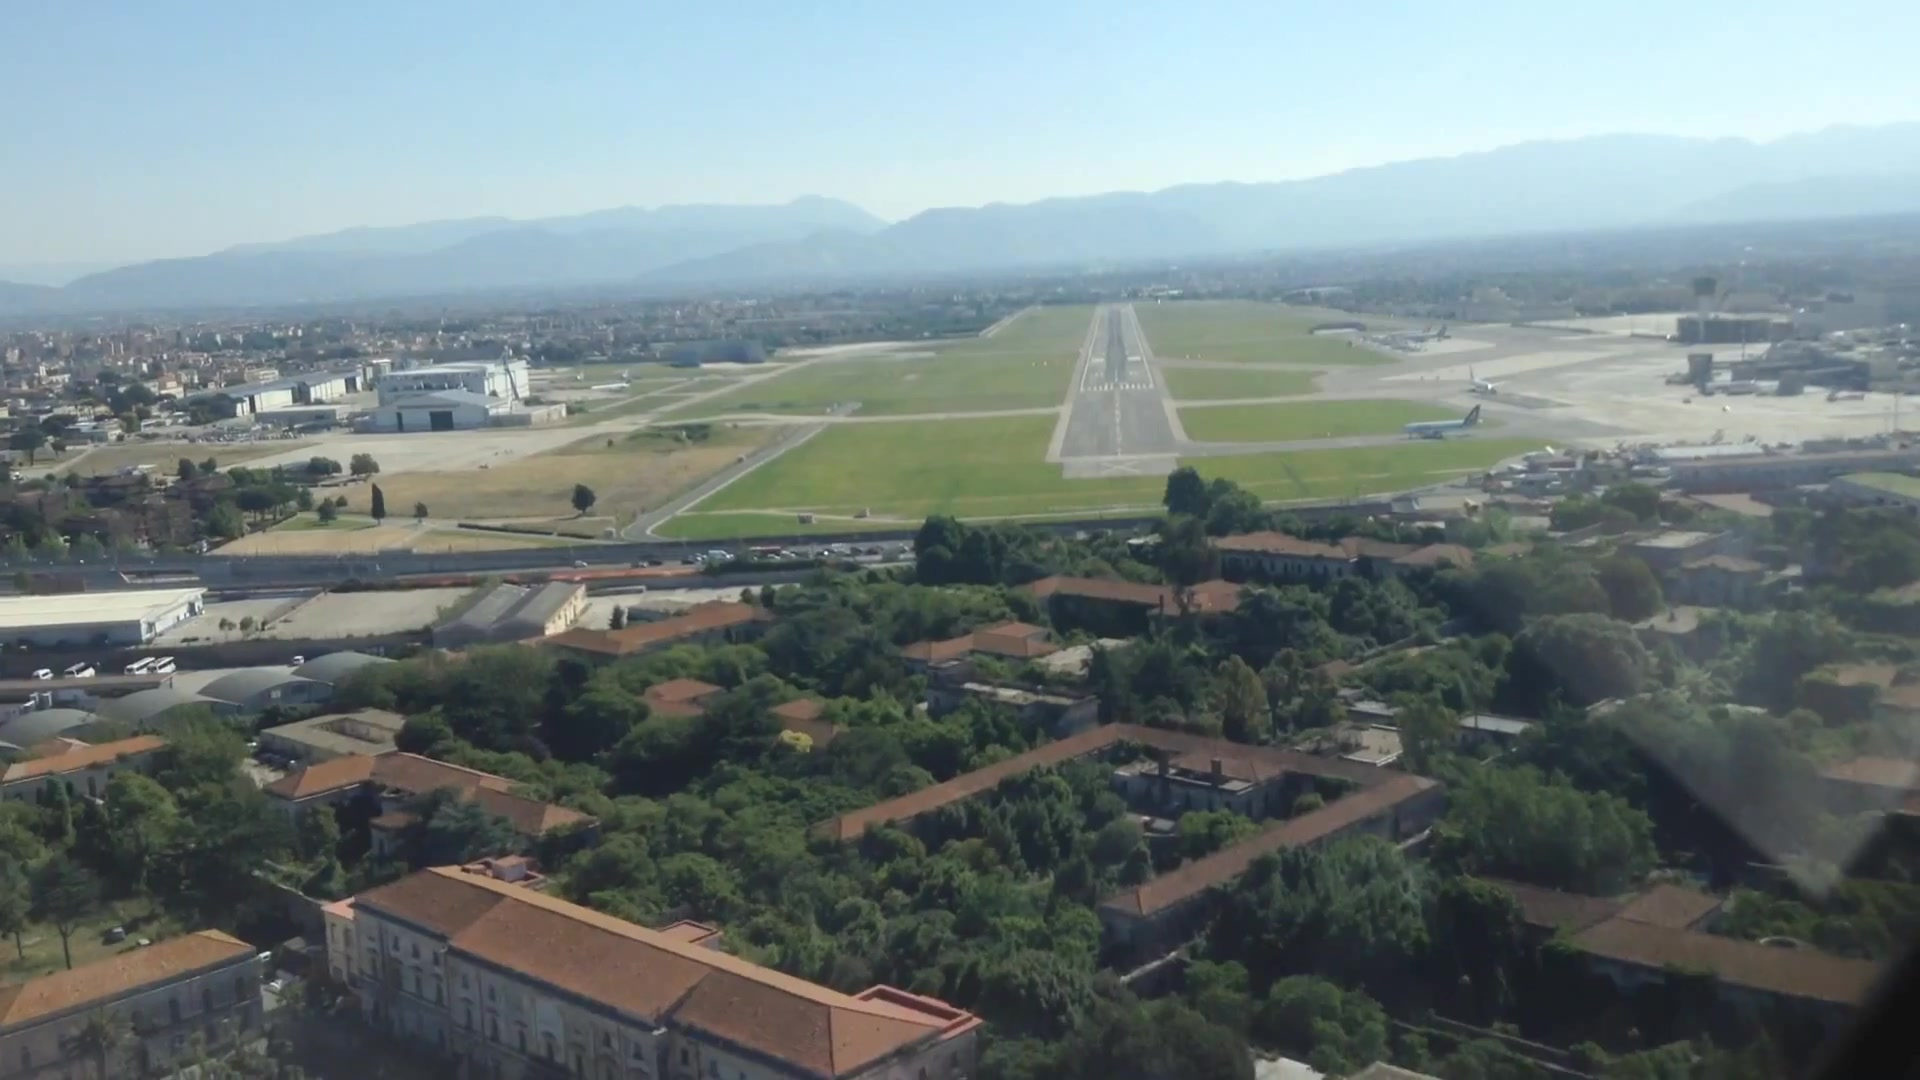entrance: (1079, 377, 1153, 396)
runway: (1051, 301, 1182, 462)
